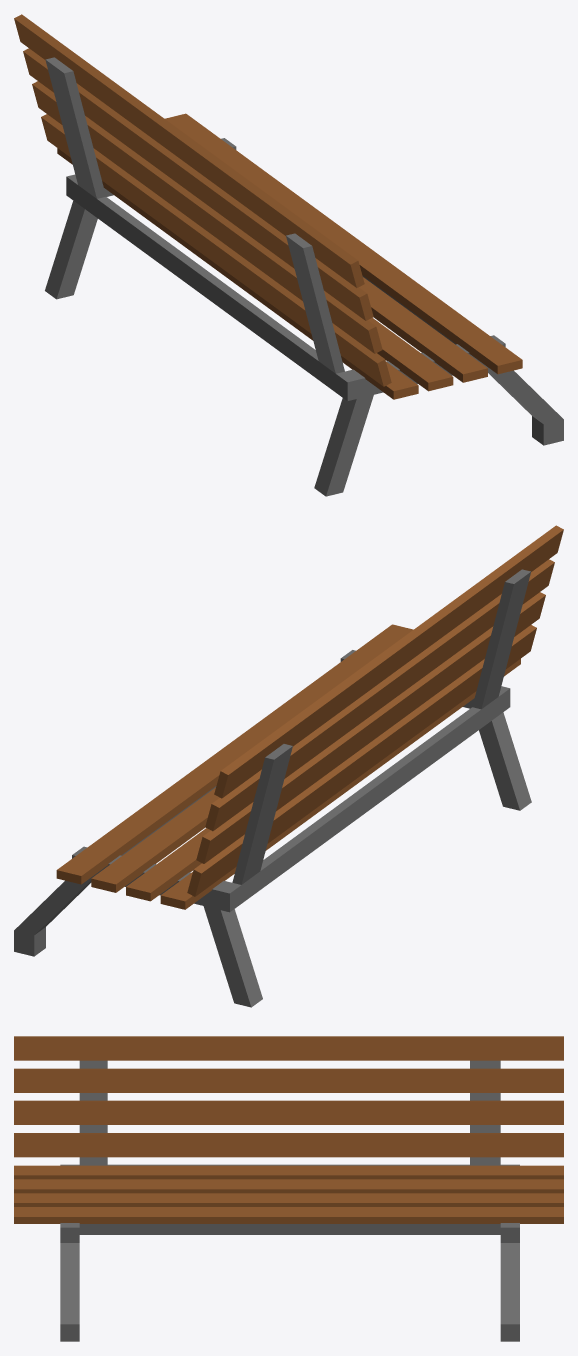
Rendered from Banco.fbx.
The picture shows the model from 3 angles, top to bottom: view 1: azimuth 30°, elevation 25°; view 2: azimuth 150°, elevation 25°; view 3: azimuth 270°, elevation 25°; orthographic projection. The views are drawn at different scales.
Parts seen in each view (by area): view 1: Cube.002, Cube, Cube.001; view 2: Cube.002, Cube, Cube.001; view 3: Cube.002, Cube.001, Cube.
Boxes of the visible parts, x1=… form: Cube.002: x1=14, y1=14, x2=391, y2=386; Cube: x1=45, y1=57, x2=563, y2=496; Cube.001: x1=57, y1=113, x2=522, y2=399; Cube.002: x1=187, y1=525, x2=563, y2=896; Cube: x1=14, y1=569, x2=531, y2=1007; Cube.001: x1=56, y1=624, x2=520, y2=909; Cube.002: x1=14, y1=1036, x2=563, y2=1157; Cube.001: x1=14, y1=1165, x2=563, y2=1223; Cube: x1=60, y1=1060, x2=519, y2=1341.
Size of the model in its own units: 107 by 106 by 251.
